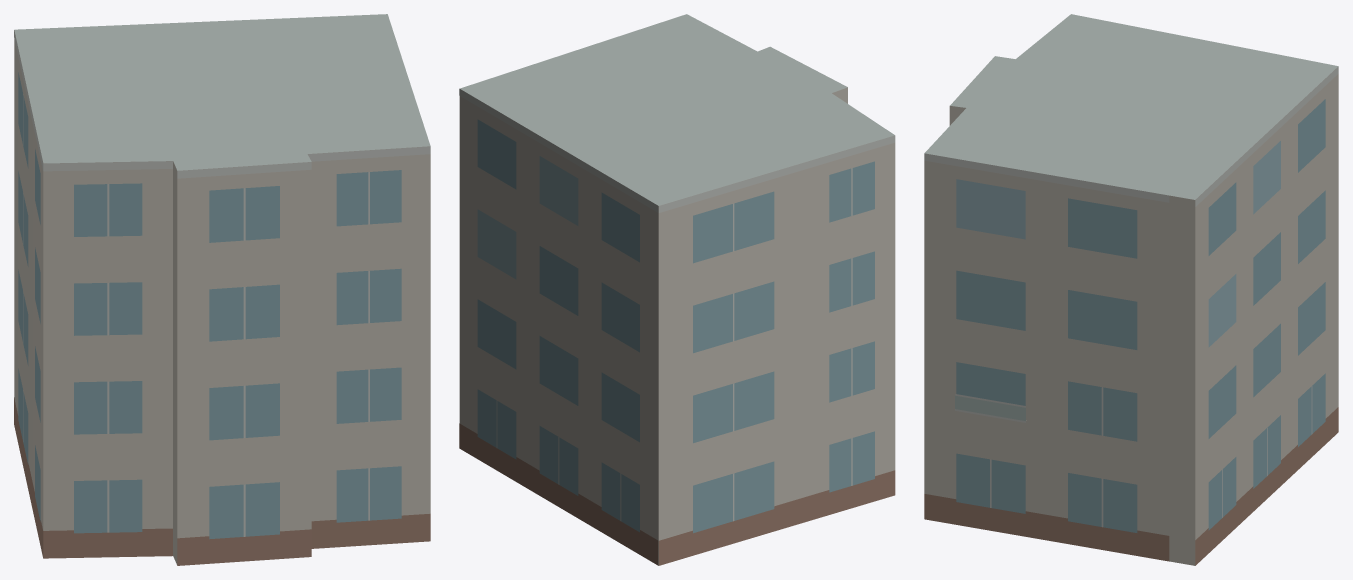
The model's file is survey-upis-32936715.glb.
The picture shows the model from 3 angles, left to right: view 1: azimuth 30°, elevation 25°; view 2: azimuth 150°, elevation 25°; view 3: azimuth 270°, elevation 25°; orthographic projection. The views are drawn at different scales.
Parts seen in each view (by area): view 1: survey-upis-32936715.tmp; view 2: survey-upis-32936715.tmp; view 3: survey-upis-32936715.tmp.
Boxes of the visible parts, bbox=[...] form: survey-upis-32936715.tmp: bbox=[14, 14, 430, 565]; survey-upis-32936715.tmp: bbox=[459, 14, 895, 565]; survey-upis-32936715.tmp: bbox=[924, 14, 1338, 565].
Bounding box in the file's own units: 13.3 × 12.2 × 12.53.
